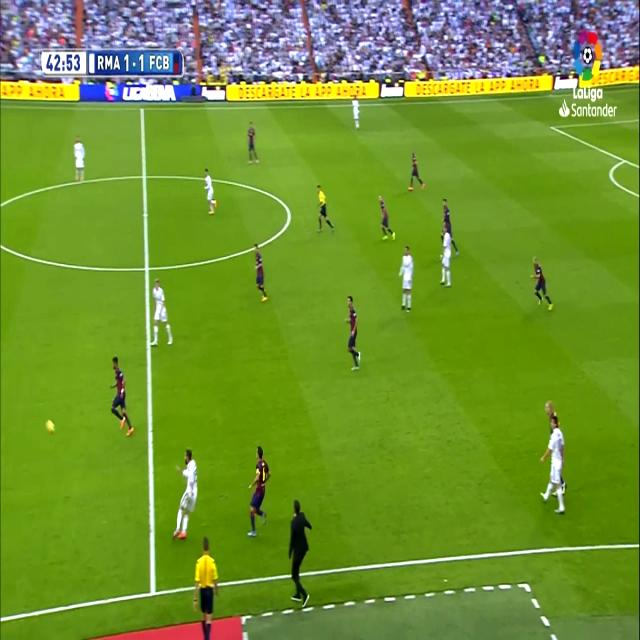halfcircle_bottom: (140, 250, 154, 284)
halfcircle_top: (138, 160, 150, 190)
midline_bottom_intersection: (145, 572, 160, 602)
midline_top_intersection: (137, 102, 147, 118)
